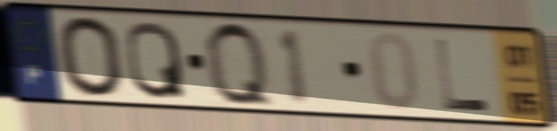0: (364, 30, 424, 114)
1: (275, 26, 309, 108)
L: (432, 35, 494, 114)
O: (53, 13, 129, 101)
Q: (200, 17, 279, 112), (123, 18, 190, 102)
